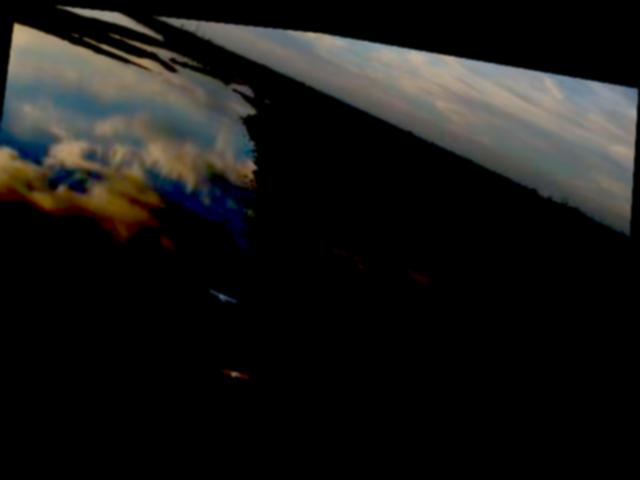uav: (210, 279, 243, 299), (224, 357, 256, 377)
